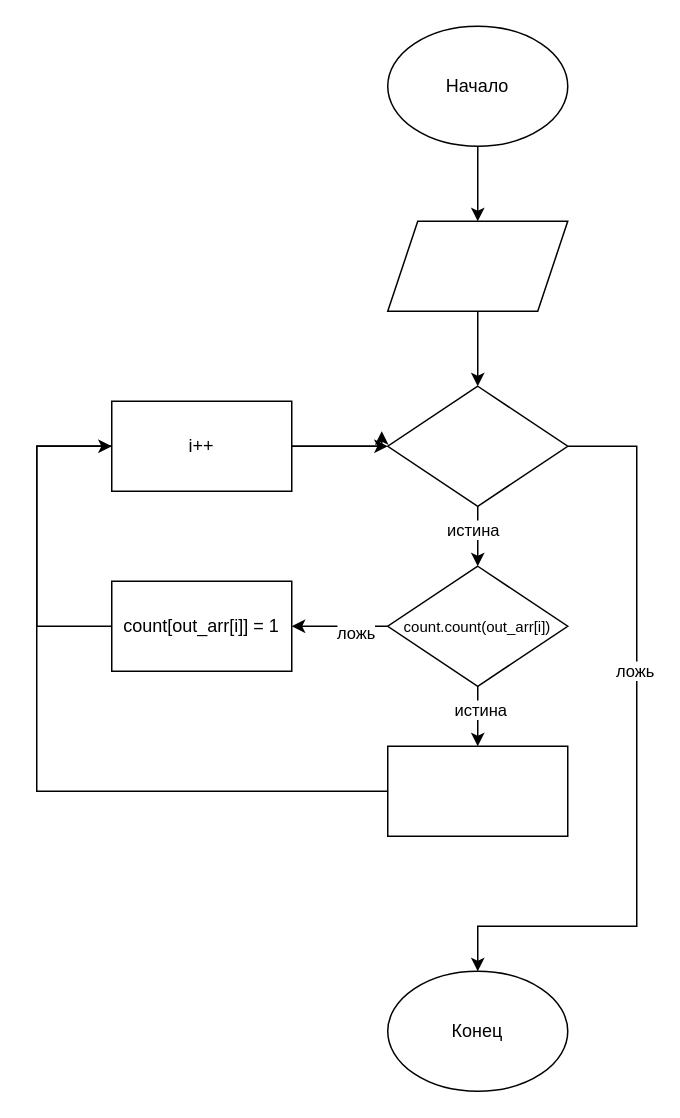
Image size: 680x1118. Some labels were removed from this diagram. The centre of each missing label's shape, as x and y in pixels:
i < out_arr.size: point 477,445
out_arr[] i = 0: point 477,265
return 0;: point 477,790
